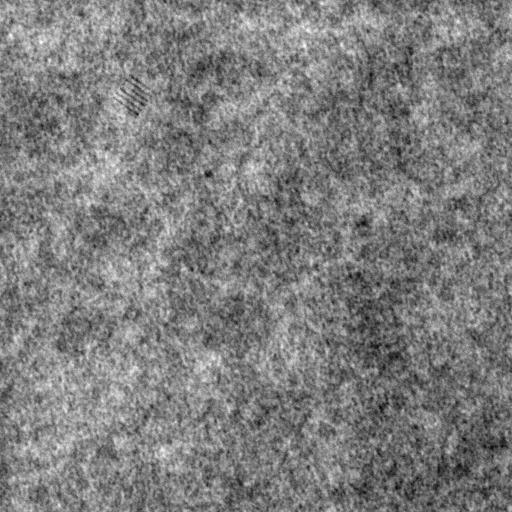DefectTypeB: (112, 74, 152, 116)
